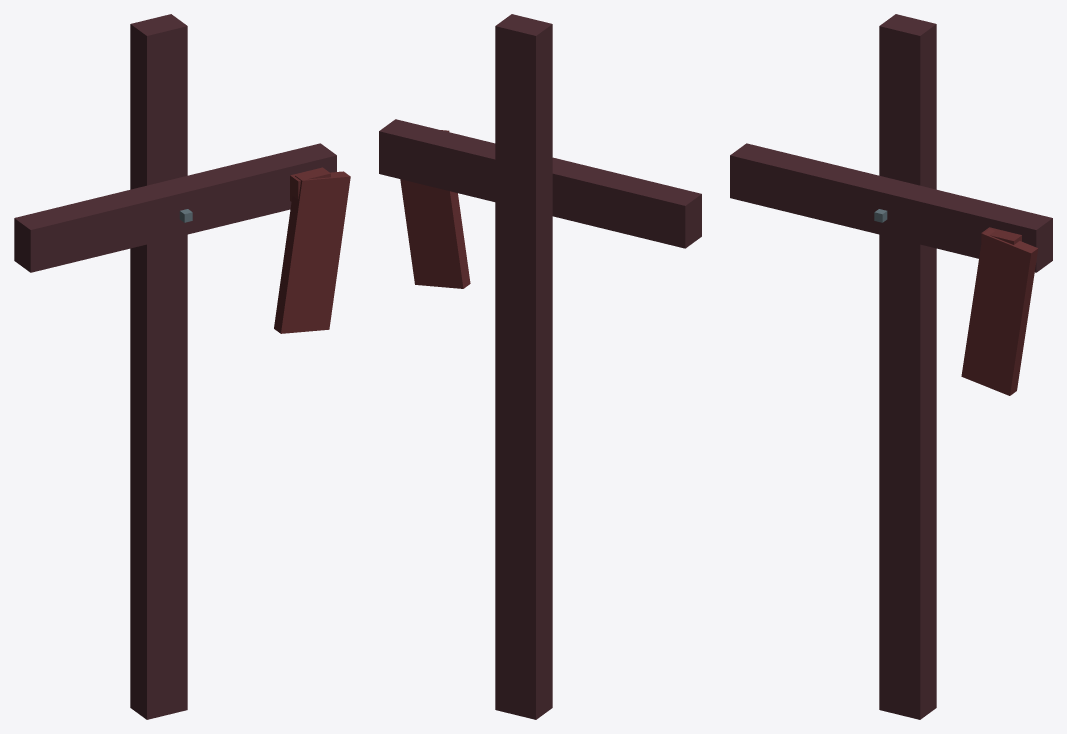
File: cruce.glb
The picture shows the model from 3 angles, left to right: view 1: azimuth 30°, elevation 25°; view 2: azimuth 150°, elevation 25°; view 3: azimuth 330°, elevation 25°; orthographic projection.
Parts seen in each view (by area): view 1: Cruce; view 2: Cruce; view 3: Cruce.
Boxes of the visible parts, box(x1,y1,x2,y2) form: Cruce: box(14, 14, 350, 719); Cruce: box(379, 14, 701, 719); Cruce: box(730, 14, 1052, 719).
Size of the model in its own units: 0.7605 by 1.6 by 0.18.
